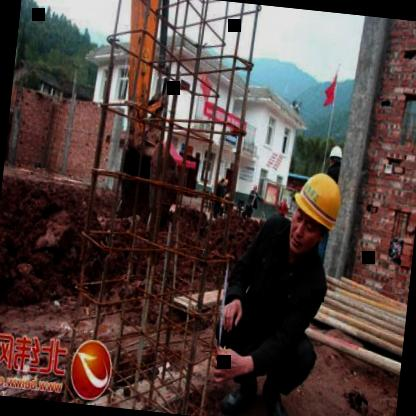helmet: (283, 164, 348, 262), (326, 141, 344, 173)
